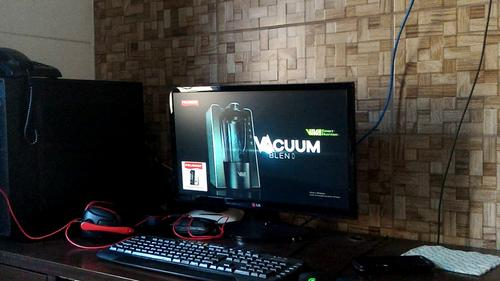Polishop #1: (181, 159, 207, 190)
